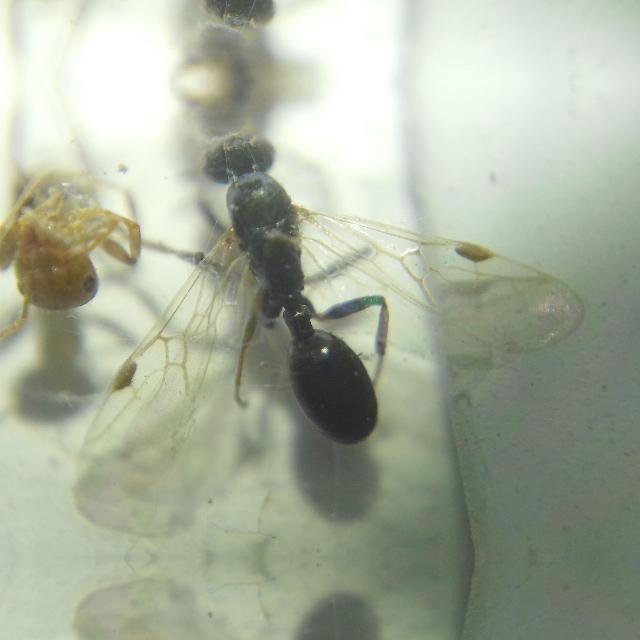Dolichoderus: (41, 81, 473, 467), (0, 144, 168, 366), (41, 0, 473, 80)
